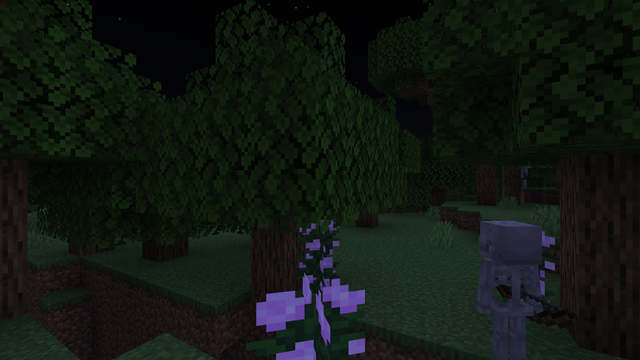squelettes: (483, 219, 541, 358), (518, 167, 530, 188)
